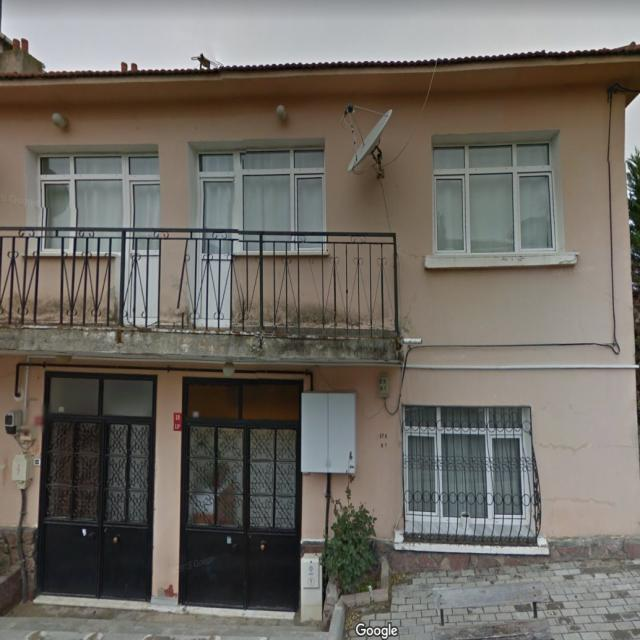Building: (0, 47, 640, 621)
